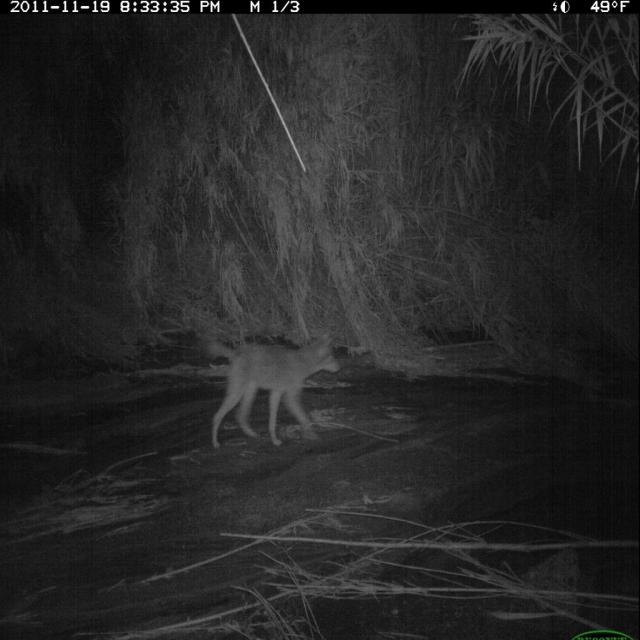coyote: (200, 324, 344, 454)
